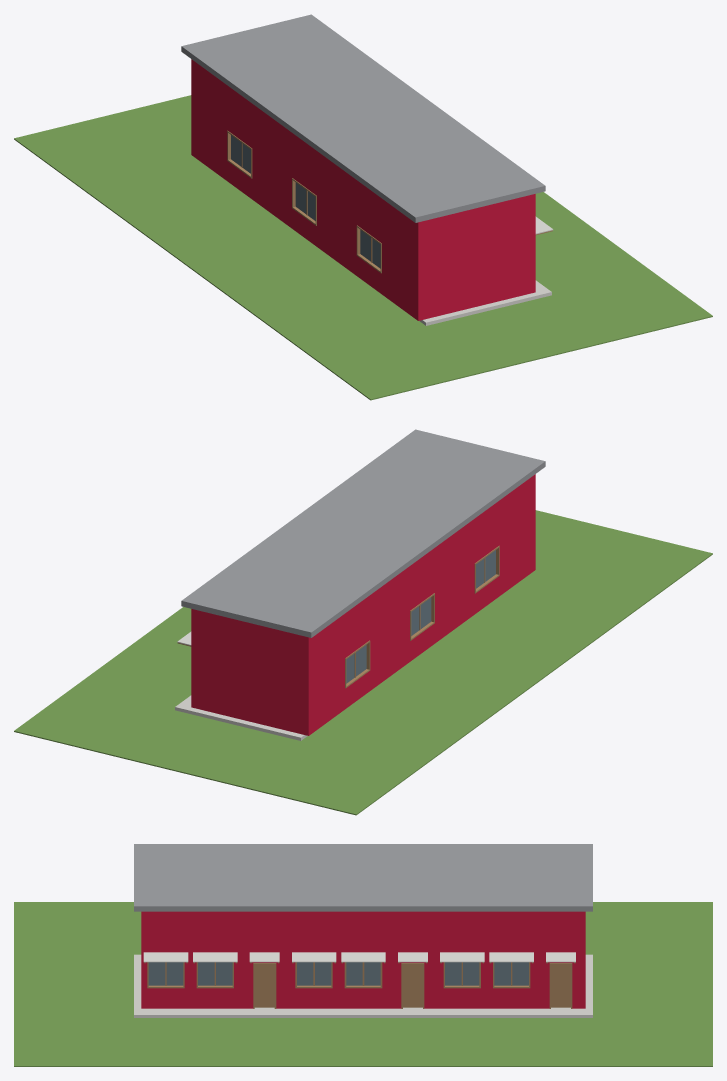
Rendered from salones4.glb.
The picture shows the model from 3 angles, top to bottom: view 1: azimuth 30°, elevation 25°; view 2: azimuth 150°, elevation 25°; view 3: azimuth 270°, elevation 25°; orthographic projection. The views are drawn at different scales.
Parts seen in each view (by area): view 1: Salones 4A, B y C; view 2: Salones 4A, B y C; view 3: Salones 4A, B y C.
Boxes of the visible parts, left/top/right/bottom form: Salones 4A, B y C: left=14, top=14, right=712, bottom=400; Salones 4A, B y C: left=14, top=429, right=712, bottom=815; Salones 4A, B y C: left=14, top=844, right=712, bottom=1066.
Size of the model in its own units: 16.13 by 5.05 by 29.1.
